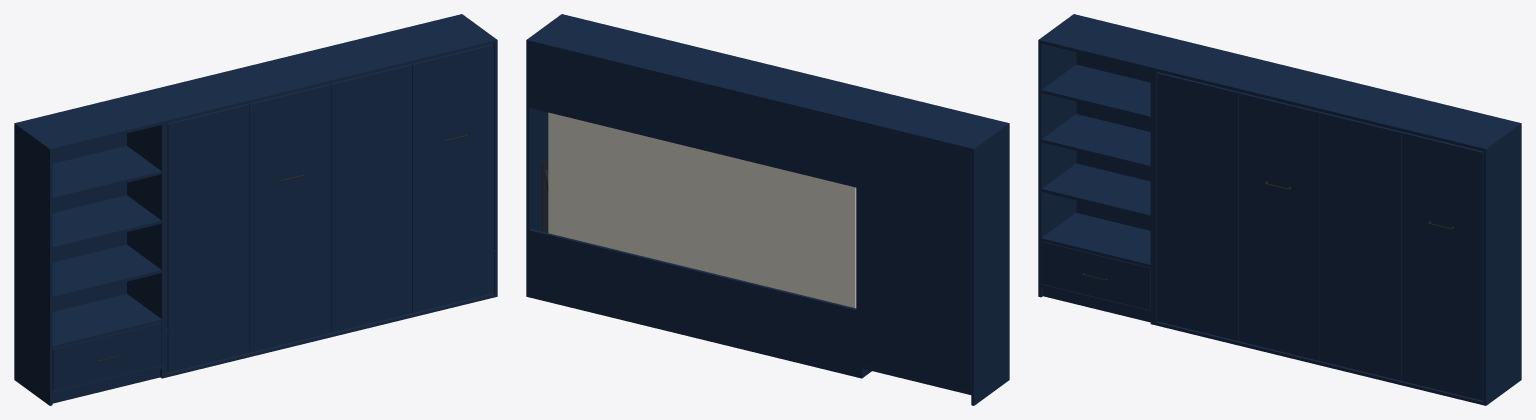
Rendered from queen-horizontal-closed.glb.
The picture shows the model from 3 angles, left to right: view 1: azimuth 30°, elevation 25°; view 2: azimuth 150°, elevation 25°; view 3: azimuth 330°, elevation 25°; orthographic projection.
Visible parts, largest first — view 1: =>[0:1:1:9], =>[0:1:1:13], =>[0:1:1:4], 06 Bottom drawer | plywood box | closed:1_632397; view 2: =>[0:1:1:4], =>[0:1:1:13], 03 Queen mattress | 60 x 80 x 10 | toggle visibility:1; view 3: =>[0:1:1:9], =>[0:1:1:13], =>[0:1:1:4], 06 Bottom drawer | plywood box | closed:1_632397.
Part boxes in pixels (box(x1,y1,x2,y2)): =>[0:1:1:9]: box(167, 44, 493, 372); =>[0:1:1:13]: box(14, 95, 164, 405); =>[0:1:1:4]: box(129, 14, 497, 377); 06 Bottom drawer | plywood box | closed:1_632397: box(52, 322, 161, 391); =>[0:1:1:4]: box(526, 14, 894, 377); =>[0:1:1:13]: box(859, 95, 1009, 405); 03 Queen mattress | 60 x 80 x 10 | toggle visibility:1: box(548, 112, 856, 308); =>[0:1:1:9]: box(1157, 72, 1483, 400); =>[0:1:1:13]: box(1038, 14, 1188, 324); =>[0:1:1:4]: box(1153, 42, 1521, 405); 06 Bottom drawer | plywood box | closed:1_632397: box(1041, 241, 1150, 310).
Size of the model in its own units: 2.97 by 1.63 by 0.4366.
